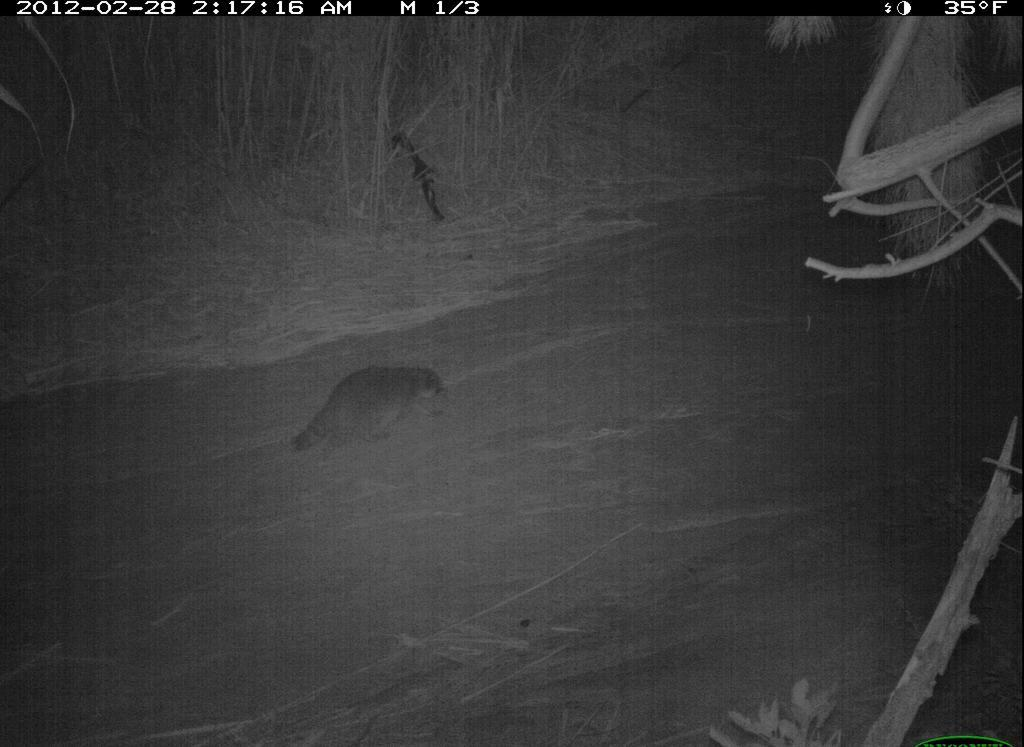raccoon: (291, 355, 451, 465)
